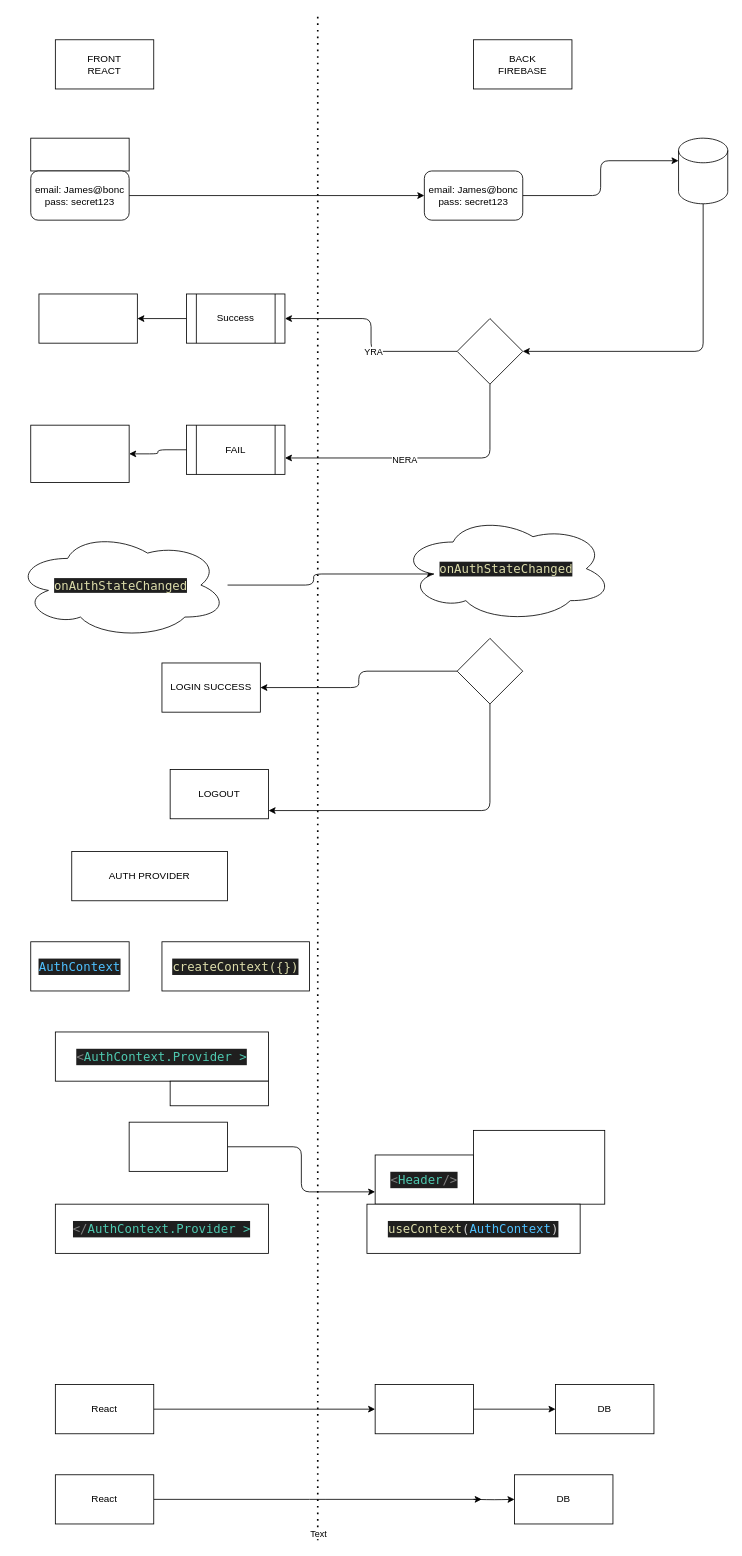
Image size: 742x1556. Some labels were removed from this diagram. The box of each missing label's shape, as (x1, y1, x2, y2) in pixels:
< App />: (128, 1121, 228, 1171)
ctx.isUserLogged in: (473, 1130, 605, 1204)
if (user): (456, 638, 523, 704)
LoginFORM: (30, 137, 129, 171)
Navigate to VIP: (38, 293, 137, 343)
Neteisingas slaptazodis ar email: (30, 424, 129, 483)
Server: (374, 1384, 474, 1434)
USERS: (678, 137, 728, 204)
value = { ctx }: (169, 1080, 269, 1106)
